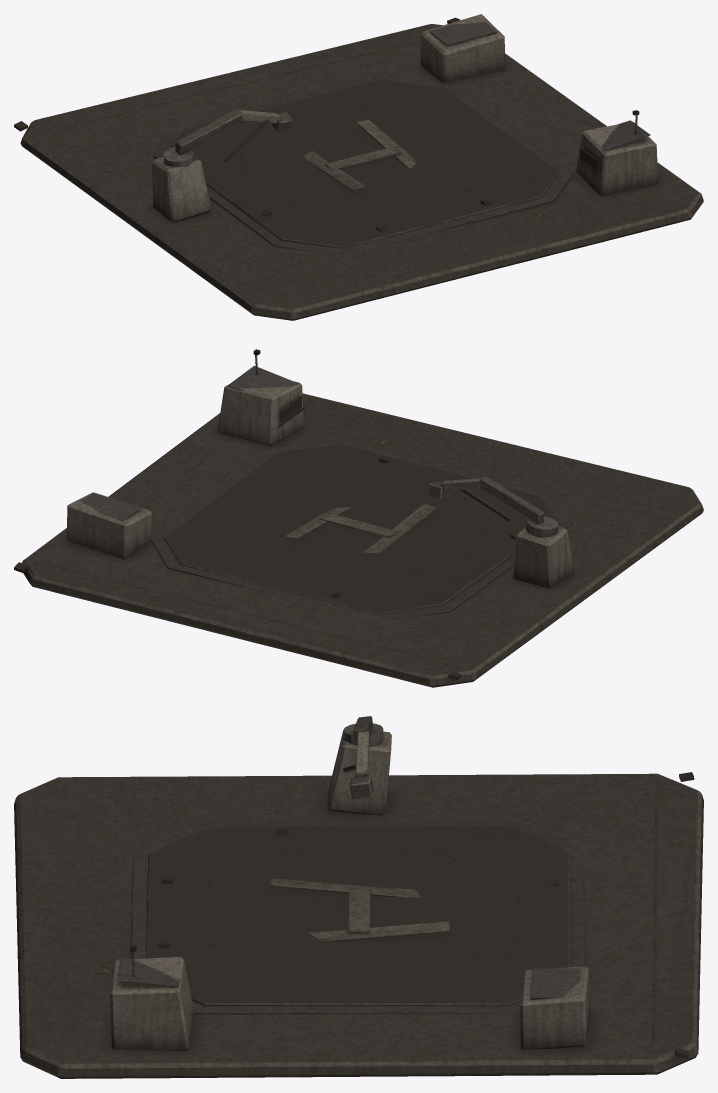
File: ord_airpad_wreck.fbx
3 views of the same model, one above another, from view 1: azimuth 30°, elevation 25°; view 2: azimuth 150°, elevation 25°; view 3: azimuth 270°, elevation 25° (orthographic). The views are drawn at different scales.
Visible parts, largest first — view 1: base_bar; view 2: base_bar; view 3: base_bar.
Boxes of the visible parts, x1,y1,x2,y2 form: base_bar: (14, 14, 703, 320); base_bar: (14, 349, 703, 687); base_bar: (14, 716, 703, 1078).
Size of the model in its own units: 2352 by 677 by 2331.
2 materials, 2 textured.
